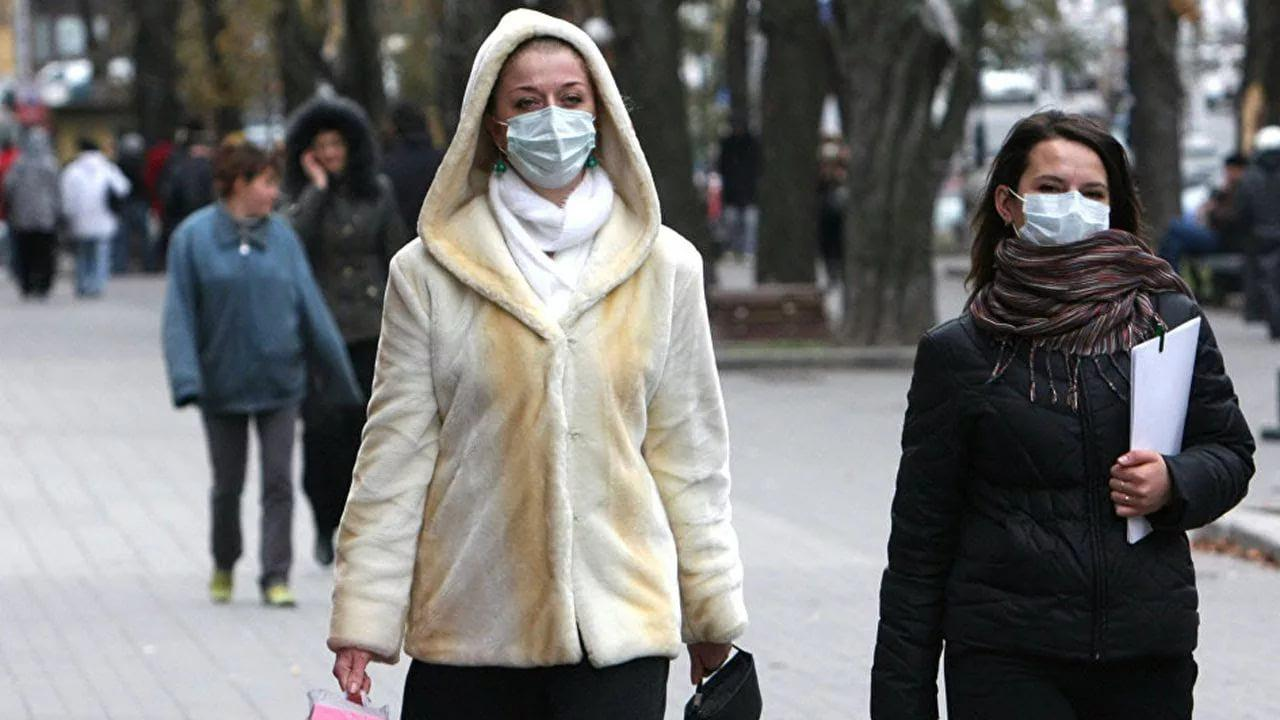mask: (497, 44, 596, 185), (1013, 141, 1105, 255)
none: (240, 162, 287, 218), (310, 128, 354, 179)
